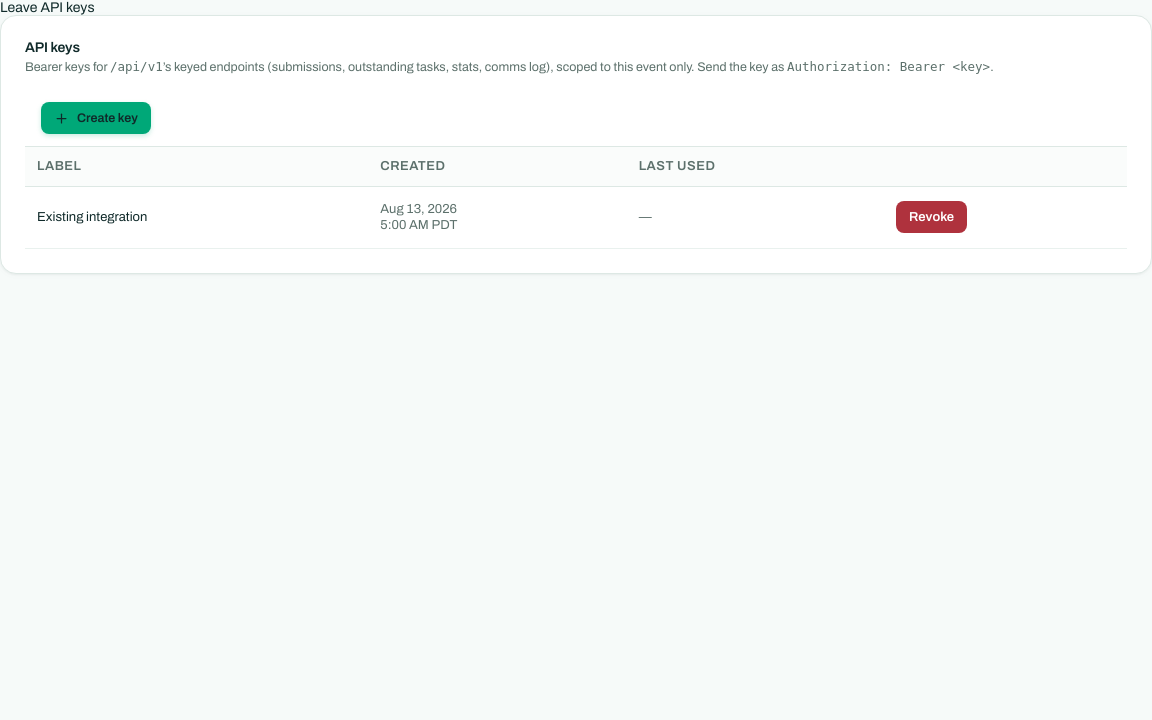
Test: API key revoke outcome › re-reads the list rather than claiming a key is restored when the outcome is unknown
Step 1. Click the button "Revoke" → x=932, y=217, box [896,201,967,233]
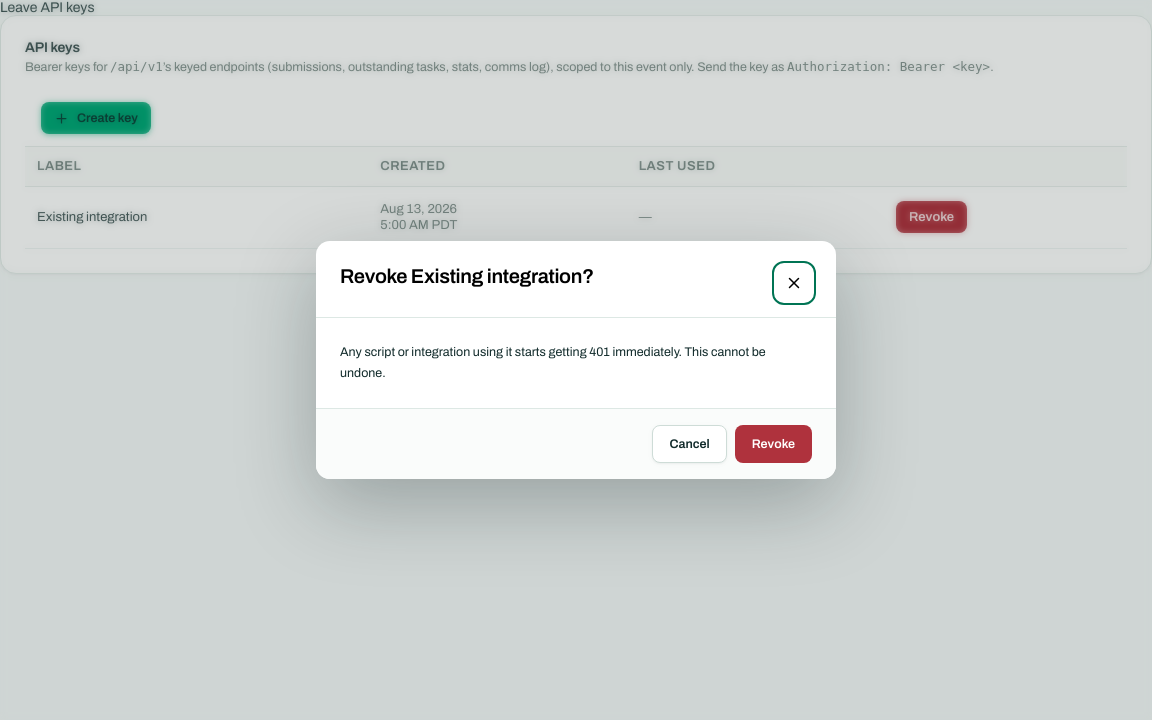
Step 2. Click the button "Revoke" → x=773, y=444, box [735,425,812,463]
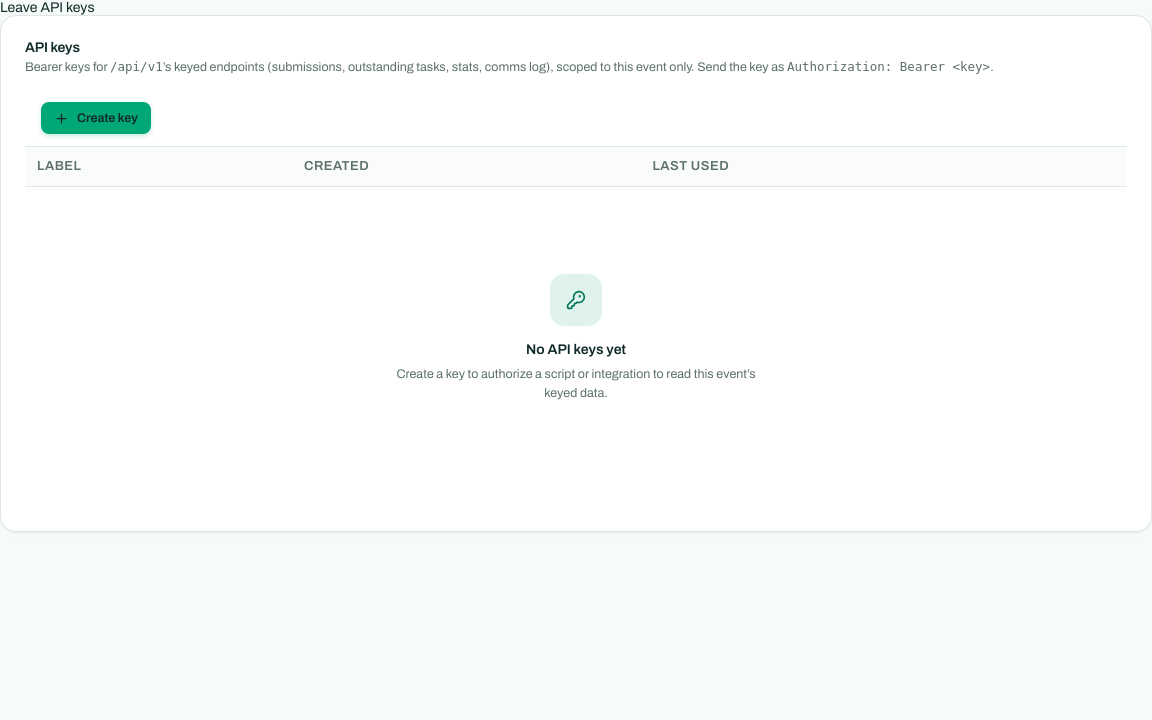
Result: the text "Existing integration" is gone
